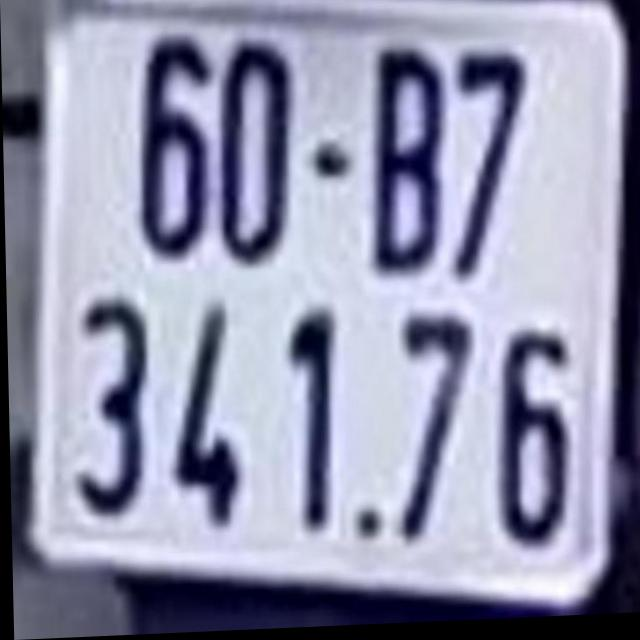0: (219, 39, 290, 272)
1: (283, 306, 334, 542)
3: (74, 288, 151, 521)
4: (168, 298, 246, 530)
6: (489, 320, 586, 563), (133, 36, 211, 266)
7: (444, 49, 530, 293), (398, 310, 465, 552)
B: (365, 51, 442, 276)
